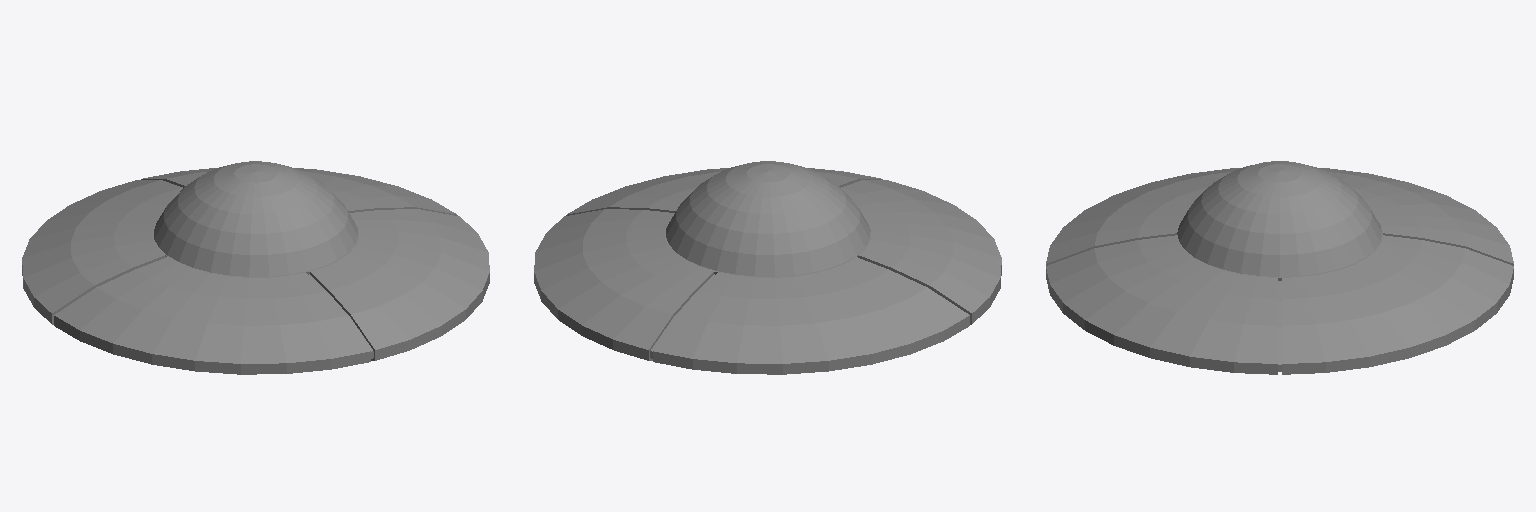
Rendered from UFO.obj.
3 renders of one model, left to right at view 1: azimuth 30°, elevation 25°; view 2: azimuth 150°, elevation 25°; view 3: azimuth 270°, elevation 25°, orthographic.
Parts seen in each view (by area): view 1: UFO_body, UFO_cockpit; view 2: UFO_body, UFO_cockpit; view 3: UFO_body, UFO_cockpit.
Part boxes in pixels (bbox=[...]): UFO_body: bbox=[22, 167, 489, 374]; UFO_cockpit: bbox=[154, 161, 357, 276]; UFO_body: bbox=[534, 168, 1001, 374]; UFO_cockpit: bbox=[666, 161, 870, 276]; UFO_body: bbox=[1046, 168, 1513, 374]; UFO_cockpit: bbox=[1177, 161, 1381, 276].
Bounding box in the file's own units: 67.87 × 27.04 × 67.87.